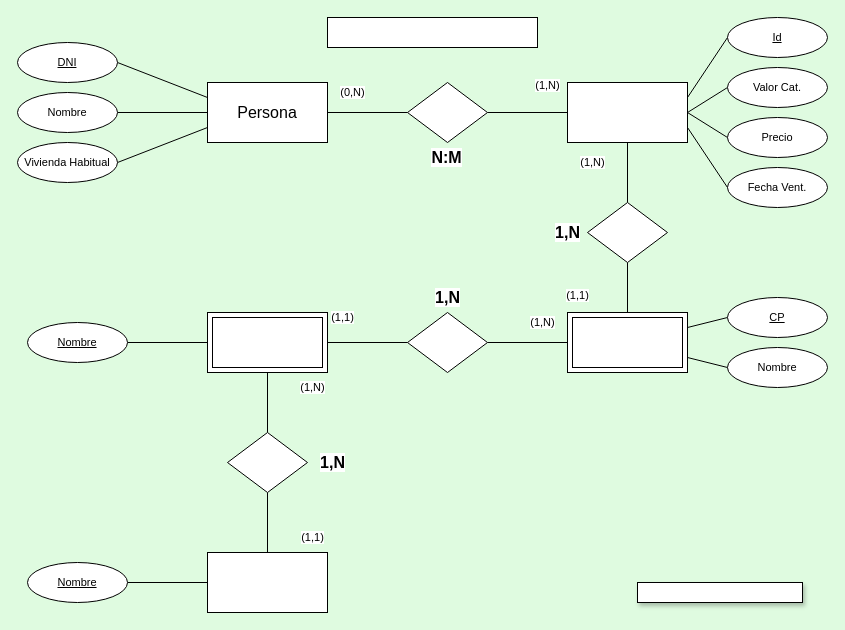
Some shapes in this 845 by 630 pixel diagram are drawn without their labels. The shapes that lost their labels are listed below. From the top down, each one's centre as x and y in pixels, then its label:
At pixel 432 32: "Actividad evaluable 1".
At pixel 627 112: "Vivienda".
At pixel 267 342: "Provincia".
At pixel 627 342: "Ciudad".
At pixel 267 582: "Pais".
At pixel 720 594: "Autor: Antonio Góme Pérez".
